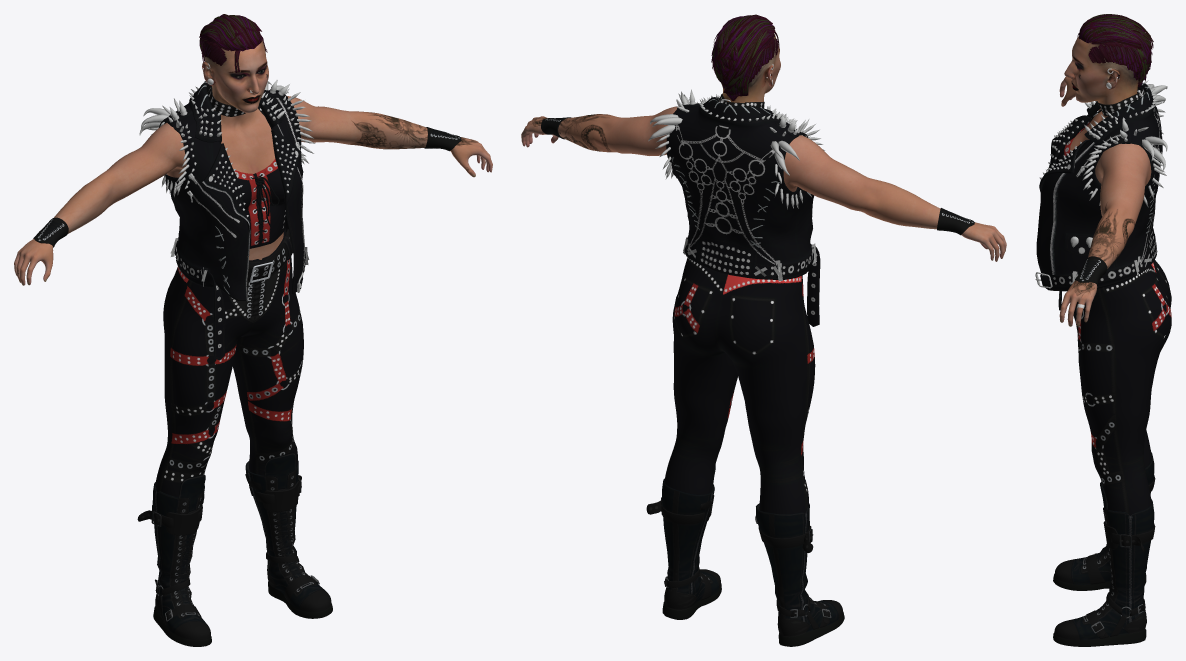
File: wwe-rhea_ripley_2k22.glb
The picture shows the model from 3 angles, left to right: view 1: azimuth 30°, elevation 25°; view 2: azimuth 150°, elevation 25°; view 3: azimuth 270°, elevation 25°; orthographic projection.
Parts seen in each view (by area): view 1: M_Tights_11, M_Jacket_17, M_Shoes_10, M_Body_0, M_Head_2, M_Brassiere_15, M_Hair_16; view 2: M_Tights_11, M_Jacket_17, M_Shoes_10, M_Body_0, M_Hair_16, M_Head_2; view 3: M_Tights_11, M_Jacket_17, M_Shoes_10, M_Body_0, M_Hair_16, M_Head_2, M_L_Wrist_19, M_U_Acce_12, M_Brassiere_15.
Part boxes in pixels (<box>): M_Tights_11: <box>155,228,303,497</box>; M_Jacket_17: <box>139,80,315,360</box>; M_Shoes_10: <box>137,452,332,646</box>; M_Body_0: <box>14,96,492,285</box>; M_Head_2: <box>202,39,270,145</box>; M_Brassiere_15: <box>234,105,285,248</box>; M_Hair_16: <box>199,14,267,72</box>; M_Tights_11: <box>664,257,815,514</box>; M_Jacket_17: <box>648,89,824,326</box>; M_Shoes_10: <box>646,465,844,646</box>; M_Body_0: <box>521,106,1006,261</box>; M_Hair_16: <box>711,14,779,100</box>; M_Head_2: <box>722,33,780,102</box>; M_Tights_11: <box>1073,260,1171,515</box>; M_Jacket_17: <box>1035,80,1167,310</box>; M_Shoes_10: <box>1053,452,1155,646</box>; M_Body_0: <box>1059,76,1151,326</box>; M_Hair_16: <box>1077,14,1153,87</box>; M_Head_2: <box>1064,36,1138,126</box>; M_L_Wrist_19: <box>1075,256,1107,285</box>; M_U_Acce_12: <box>1096,88,1144,116</box>; M_Brassiere_15: <box>1055,109,1101,184</box>.
Size of the model in its own units: 1.46 by 1.77 by 0.3681.
16 materials, 13 textured.
